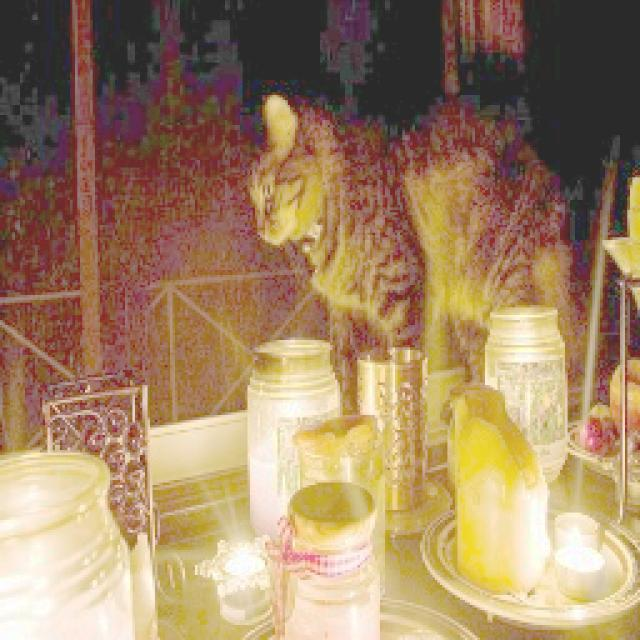cat: (249, 88, 587, 382)
